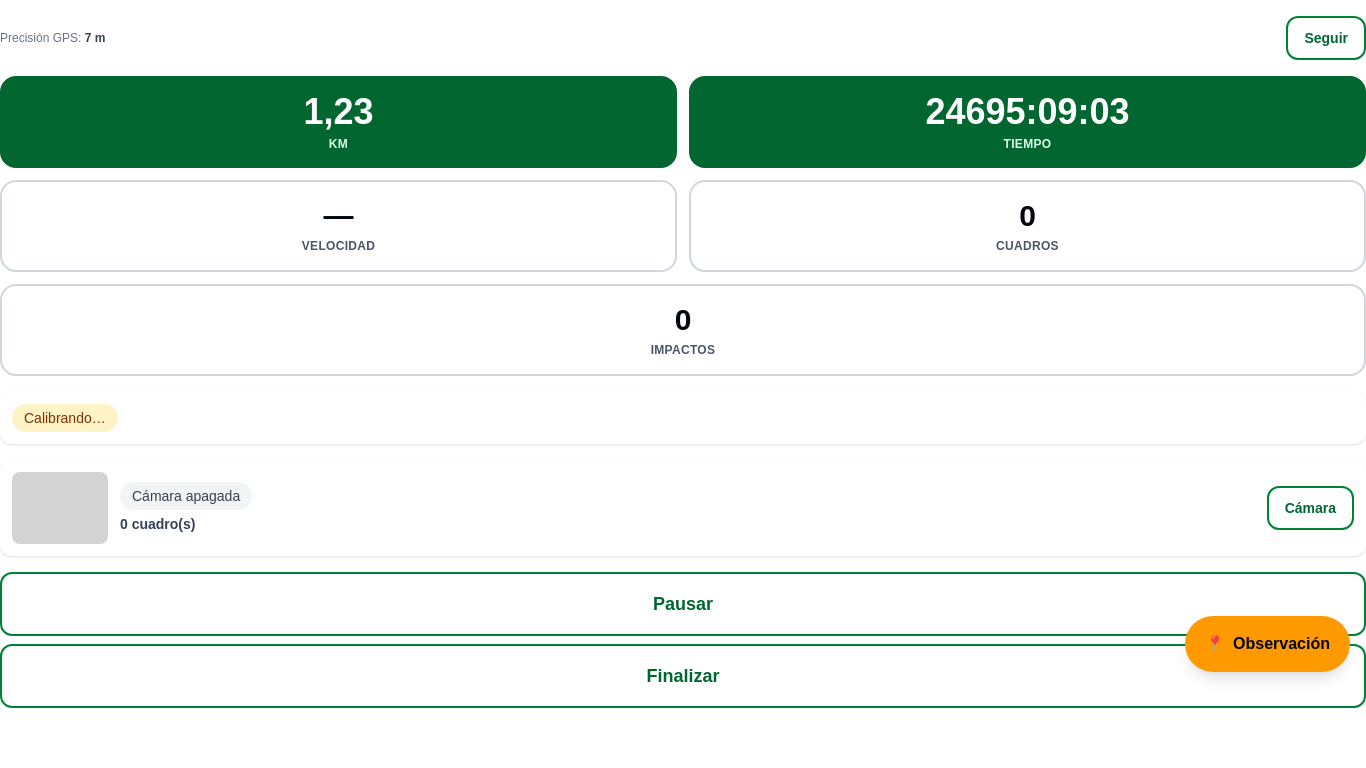
Test: RecorridoView › cancelar la observación reanuda la grabación
This screenshot has width=1366, height=768.
Click the button "📍 Observación" at (1268, 644), box [1185,616,1350,672]
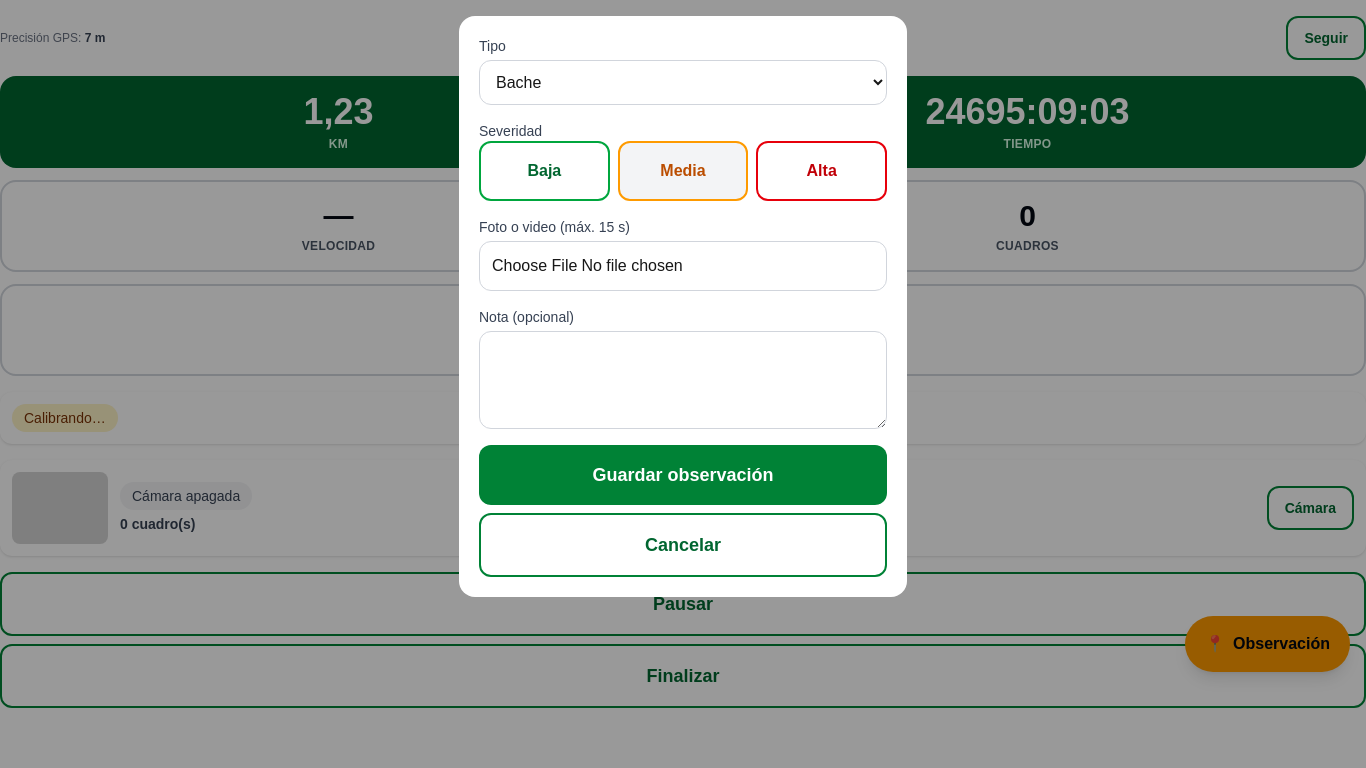
Click the button "Cancelar" at (683, 545), box [479,513,887,577]
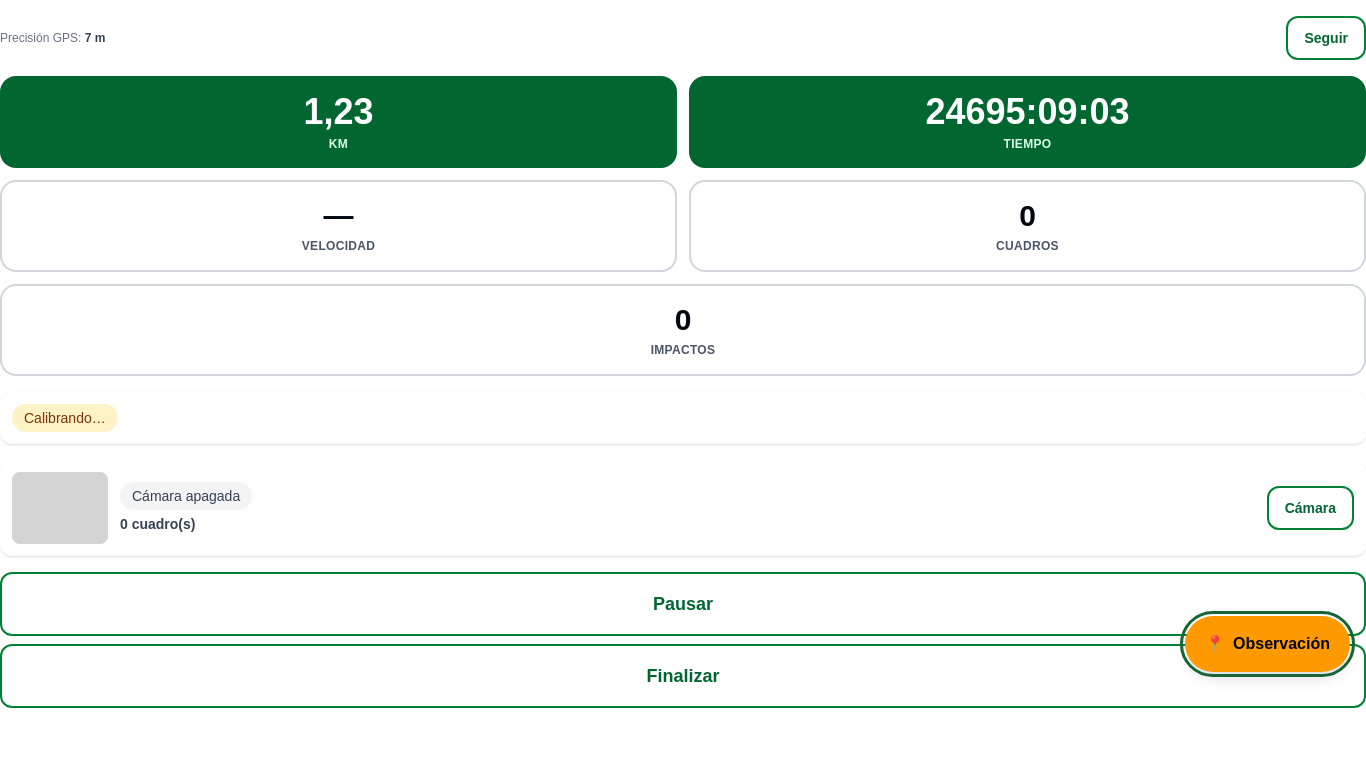
Check: the dialog is gone
